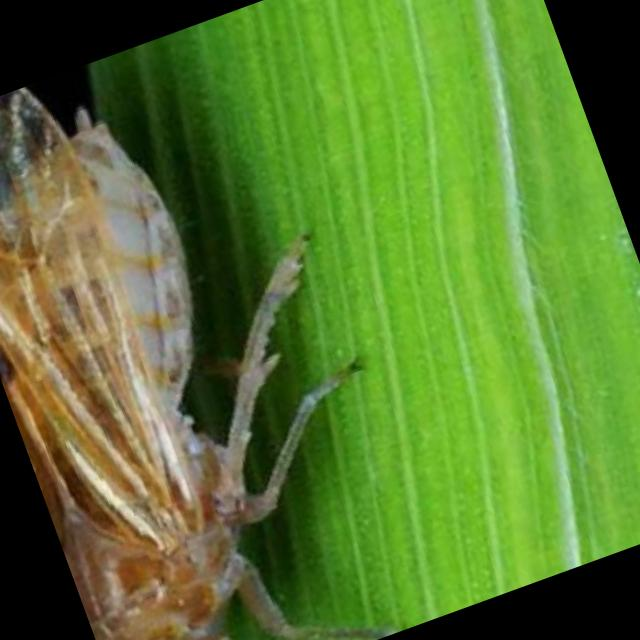brown-planthopper: (0, 84, 341, 640)
